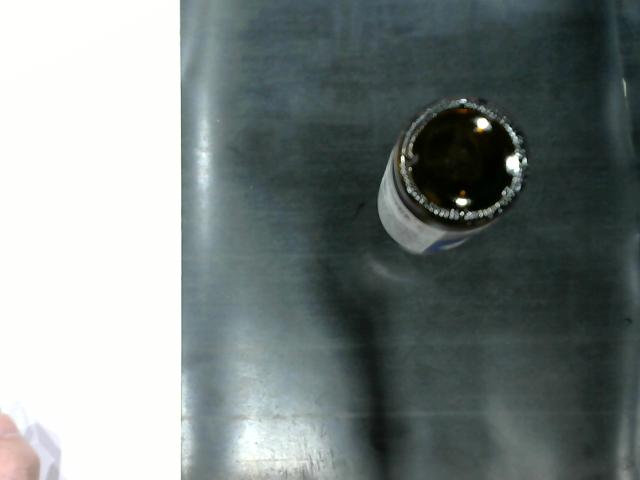glass: (353, 79, 539, 287)
